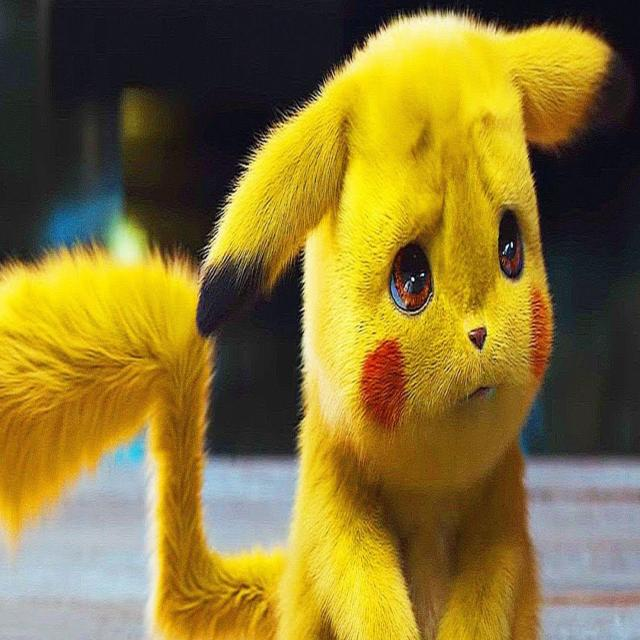pikachu: (1, 15, 634, 638)
